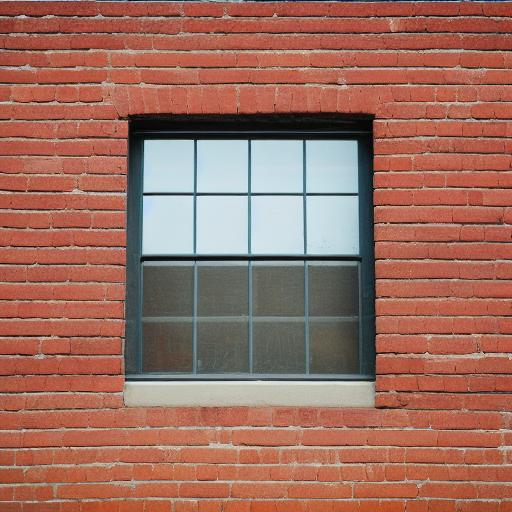Window: (117, 87, 386, 411)
